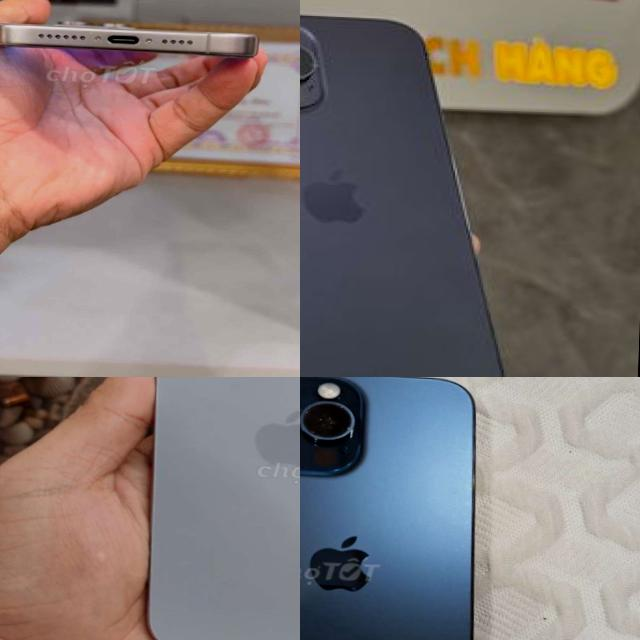gen_14: (300, 0, 535, 377)
gen_15: (300, 377, 487, 640), (123, 377, 300, 640), (0, 7, 276, 79)
